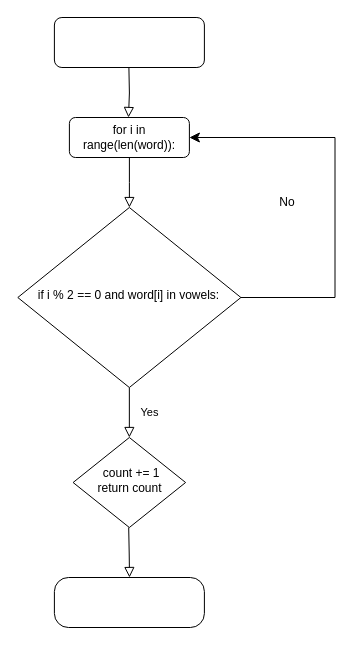
Some shapes in this 363 by 645 pixel diagram are drawn without their labels. The shapes that lost their labels are listed below. From the top down, each one's centre as x and y in pixels, then its label:
At [128,42]: "sentence = input('Введите предложение: ')".
At [128,602]: "print(word.lower())".
